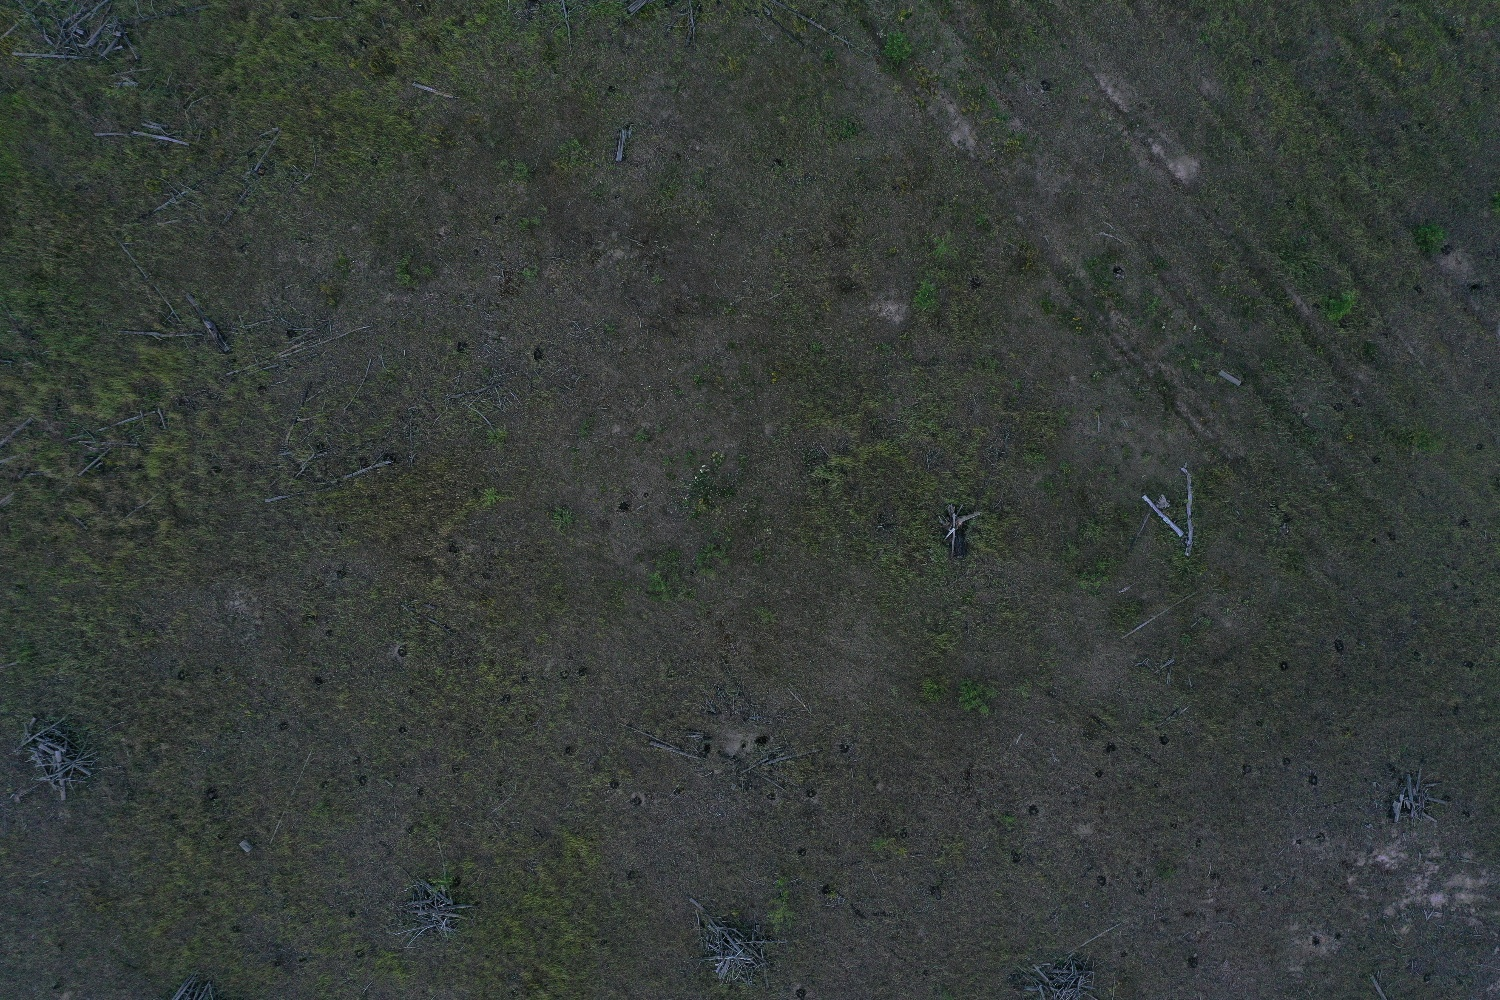branches: (15, 717, 99, 800), (393, 879, 475, 941), (58, 1, 138, 59), (698, 923, 772, 984), (1008, 952, 1103, 1000), (1382, 763, 1451, 826)
